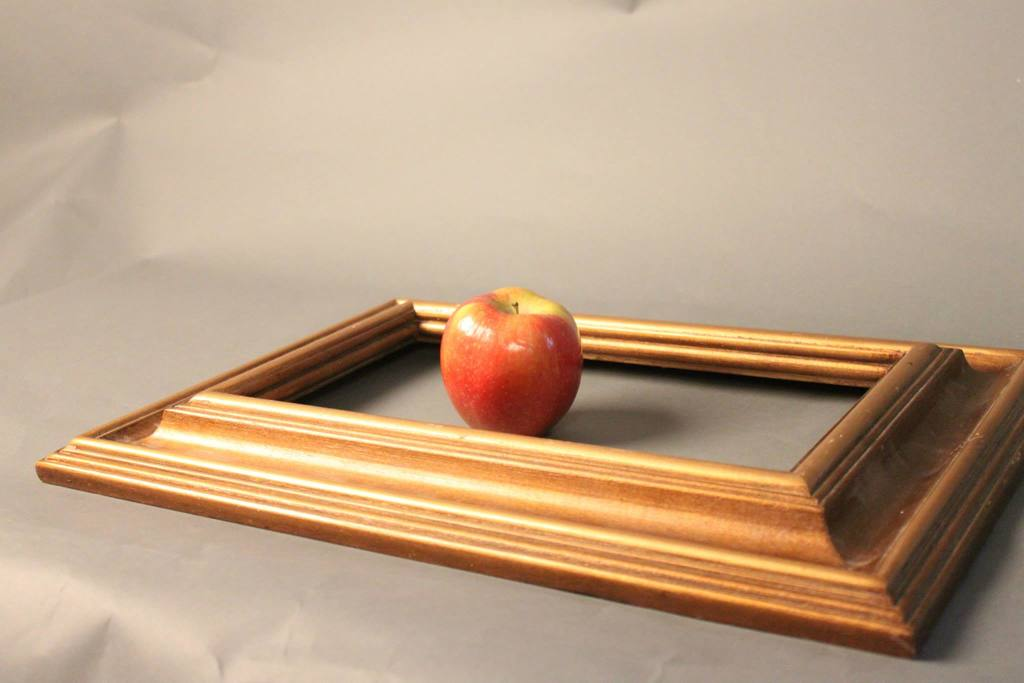Apple: (442, 297, 590, 437)
